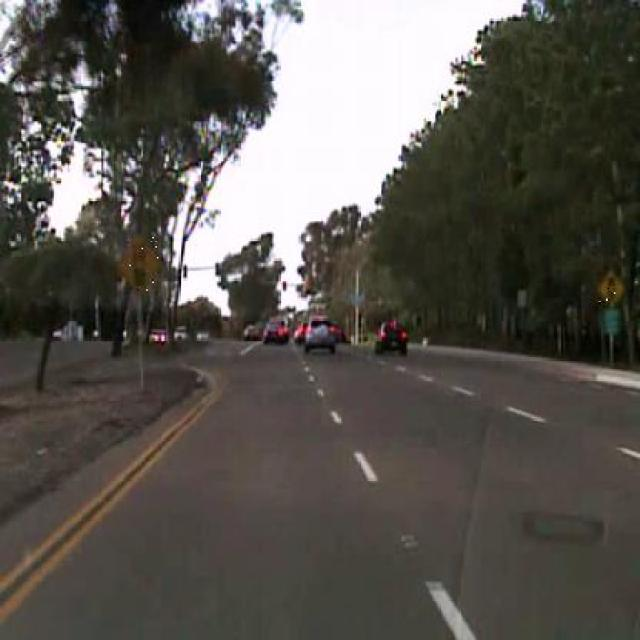signalAhead: (117, 229, 165, 297), (597, 268, 626, 309)
